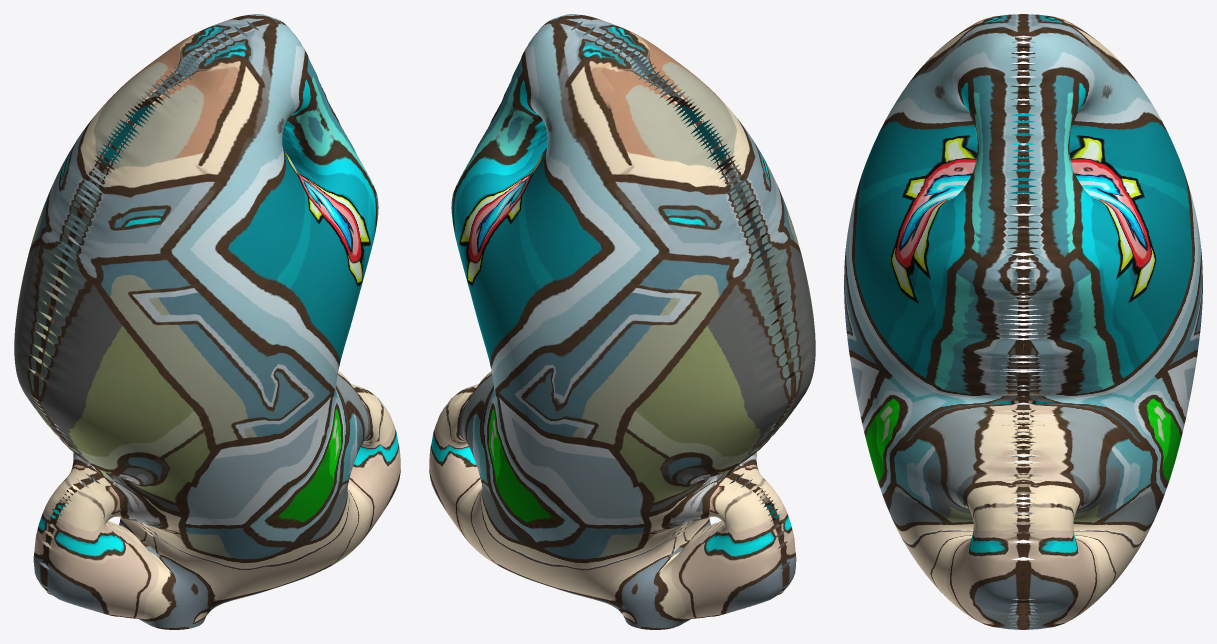
File: monitor_station.glb
3 renders of one model, left to right at view 1: azimuth 30°, elevation 25°; view 2: azimuth 150°, elevation 25°; view 3: azimuth 270°, elevation 25°, orthographic. The views are drawn at different scales.
Parts seen in each view (by area): view 1: monitor_station; view 2: monitor_station; view 3: monitor_station.
Boxes of the visible parts, x1,y1,x2,y2 form: monitor_station: (14, 14, 400, 629); monitor_station: (429, 14, 815, 629); monitor_station: (844, 14, 1202, 629).
Size of the model in its own units: 0.9836 by 1.47 by 0.8233.
1 material, 1 textured.
